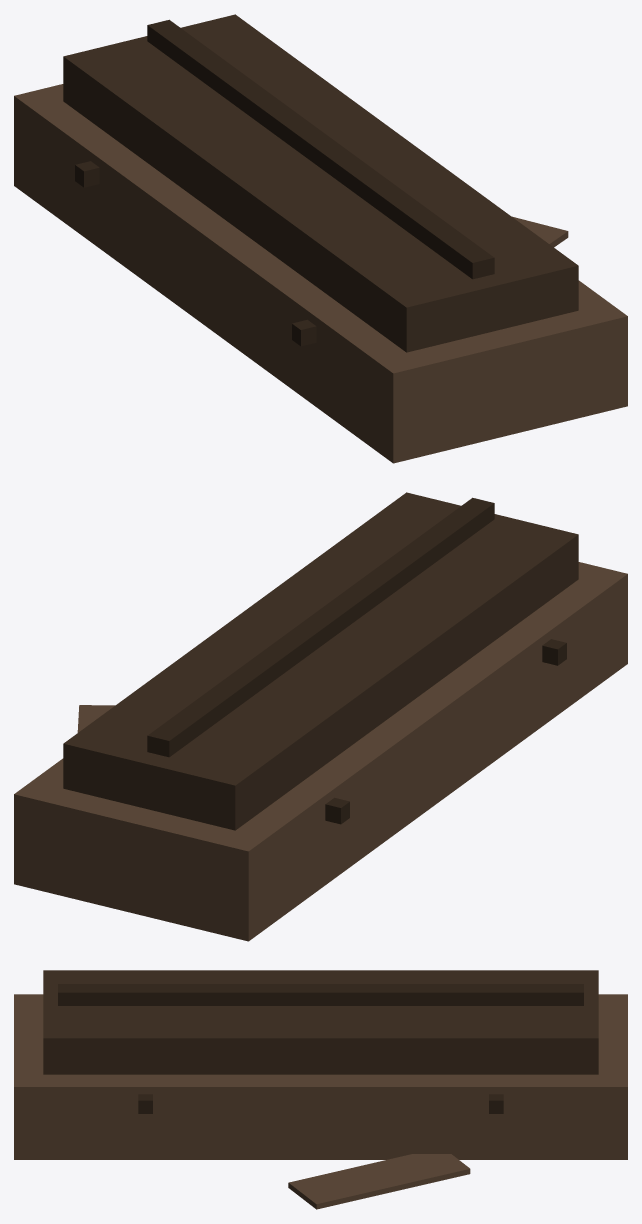
File: s3_capsized_boat.glb
3 views of the same model, one above another, from view 1: azimuth 30°, elevation 25°; view 2: azimuth 150°, elevation 25°; view 3: azimuth 270°, elevation 25° (orthographic). The views are drawn at different scales.
Parts seen in each view (by area): view 1: s3_capsized_boat; view 2: s3_capsized_boat; view 3: s3_capsized_boat.
Boxes of the visible parts, x1,y1,x2,y2 form: s3_capsized_boat: (14, 14, 627, 463); s3_capsized_boat: (14, 492, 627, 941); s3_capsized_boat: (14, 970, 627, 1209).
Bounding box in the file's own units: 2.41 × 0.945 × 4.2.
